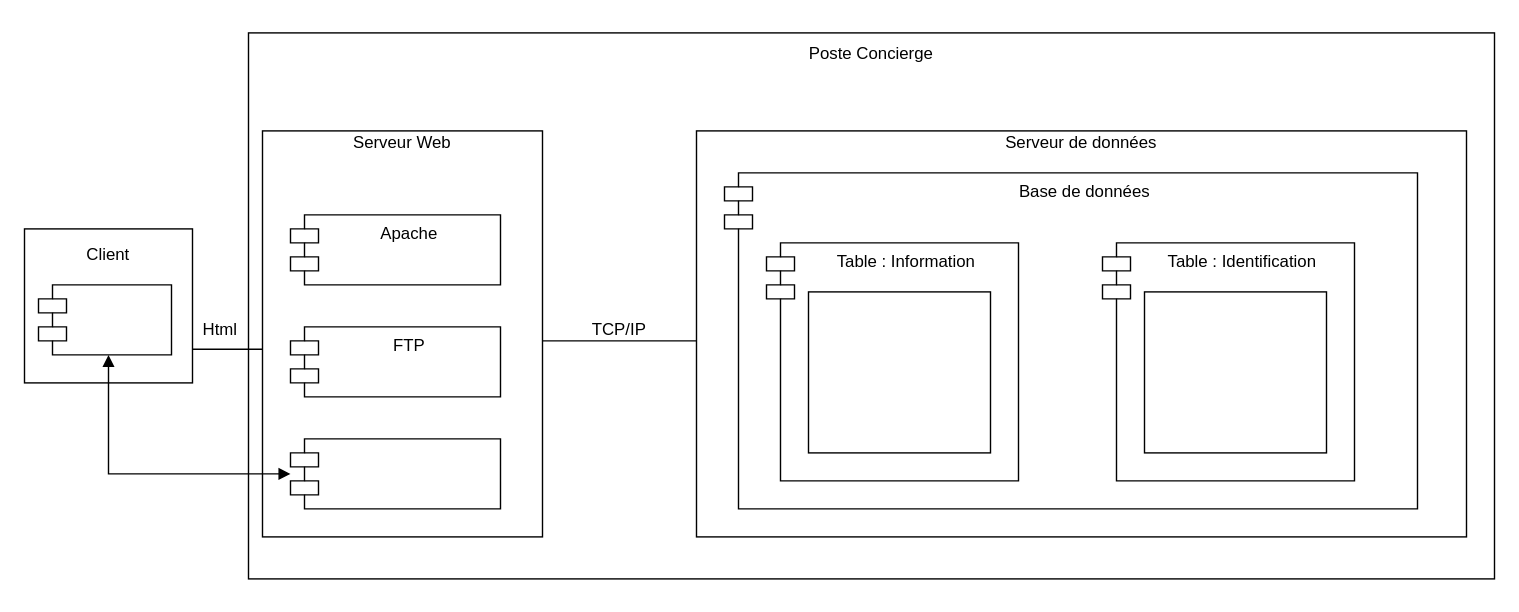
Image size: 1519x612. Some labels were removed from this diagram. The shapes that lost their labels are listed below. From the top down, each one's centre as x and y in pixels, then its label:
At (104,319): "Navigateur Web".
At (898,371): "Entité : Info Plaque Info Prénom Info Nom".
At (1234,371): "Entité : Identifiant MPS".
At (394,473): "Js + Html + Php + Css".
